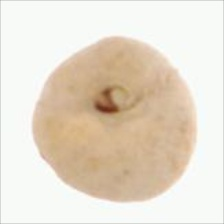L3: (90, 82, 140, 114)
L4: (32, 36, 197, 203)
